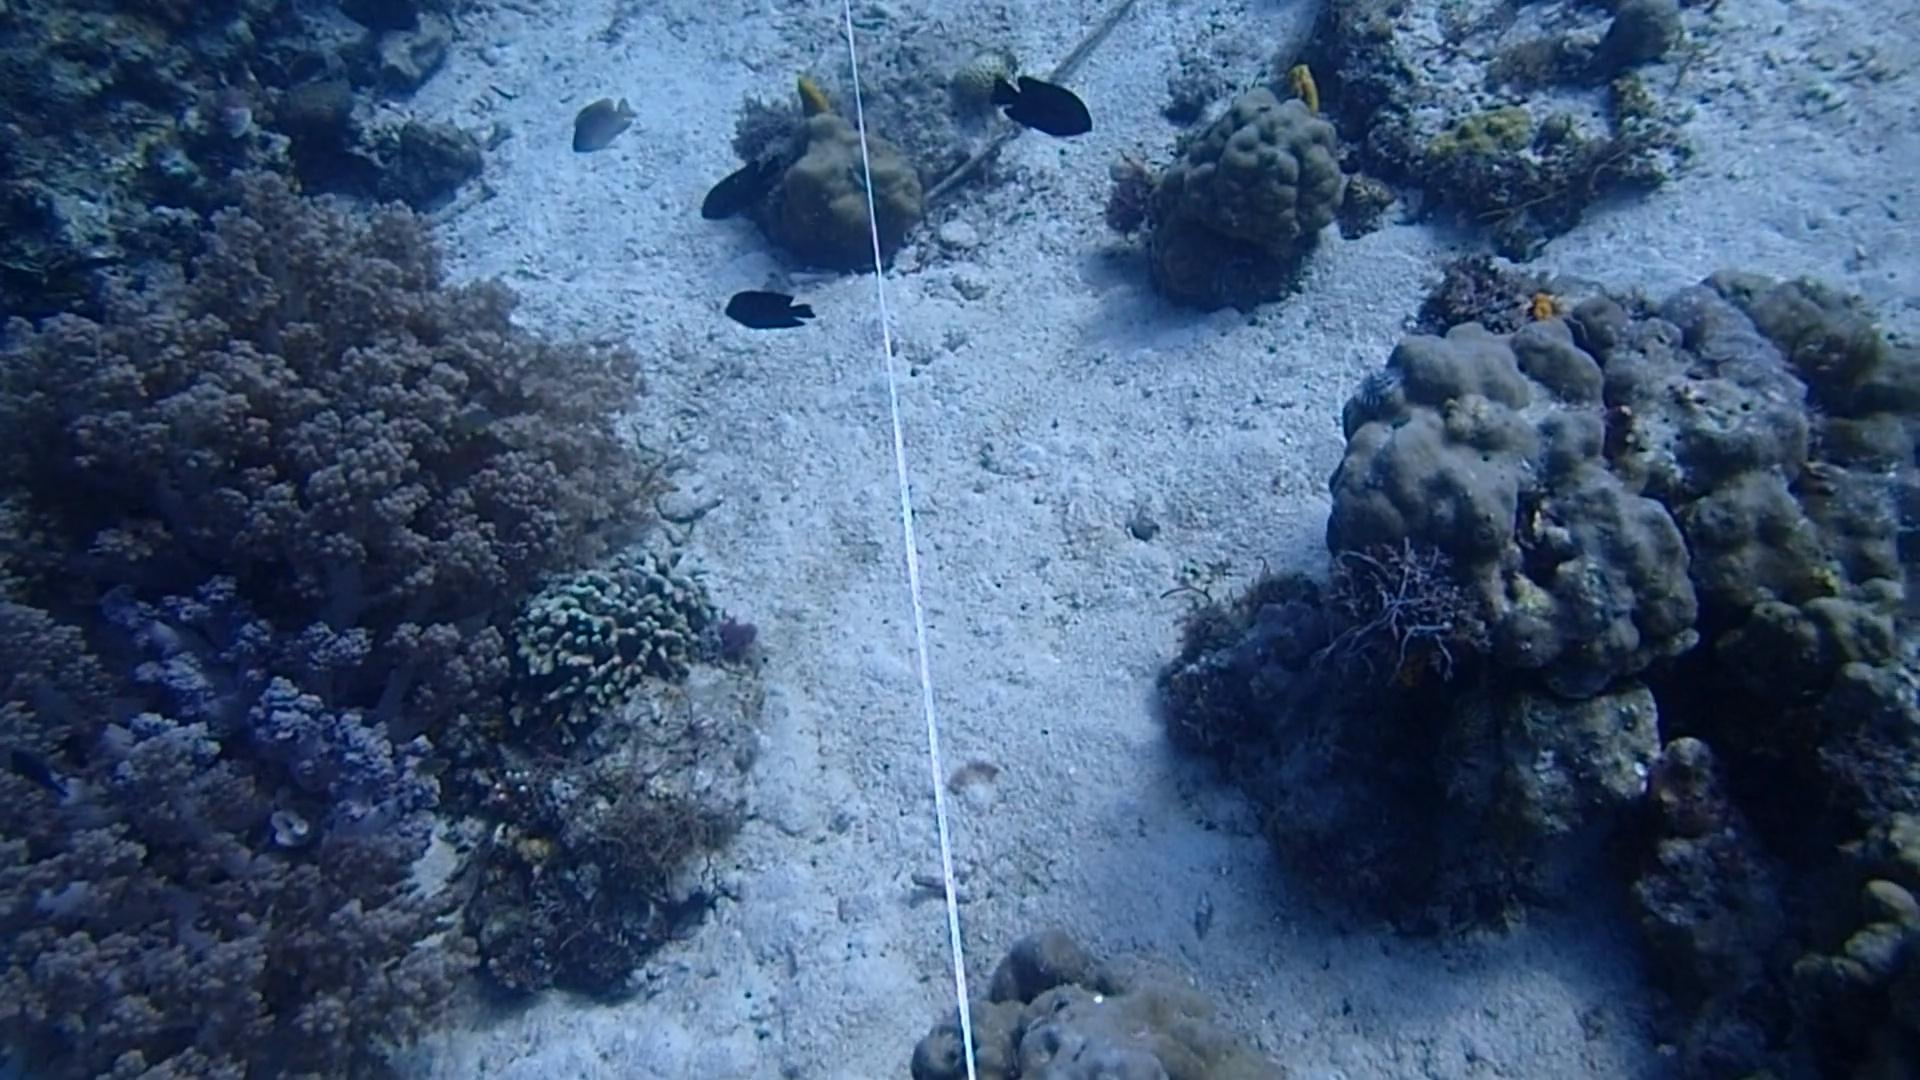Dark Fish: (688, 144, 790, 232), (988, 66, 1097, 142), (715, 285, 820, 340), (3, 740, 70, 807)
Light Fish: (555, 90, 641, 169)
